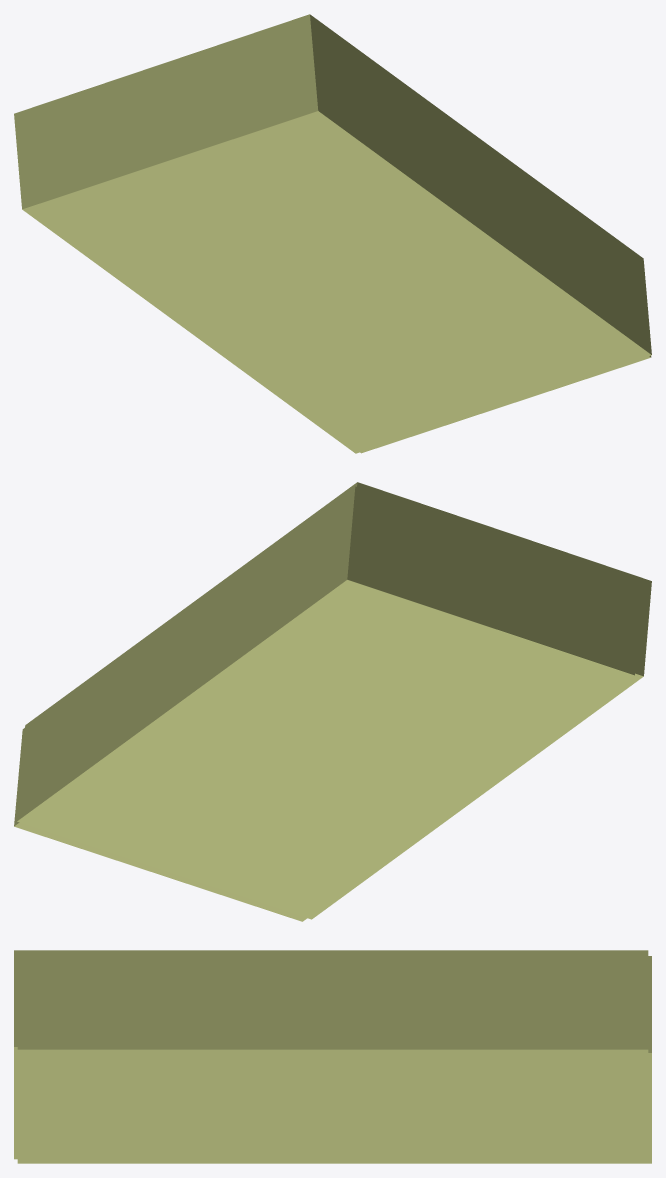
3 views of the same model, one above another, from view 1: azimuth 30°, elevation 25°; view 2: azimuth 150°, elevation 25°; view 3: azimuth 270°, elevation 25° (orthographic). The views are drawn at different scales.
Visible parts, largest first — view 1: 0_2_3_3_3_1_0_1_3_1_3_1; view 2: 0_2_3_3_3_1_0_1_3_1_3_1; view 3: 0_2_3_3_3_1_0_1_3_1_3_1.
Boxes of the visible parts, <box> form: 0_2_3_3_3_1_0_1_3_1_3_1: <box>14,14,651,453</box>; 0_2_3_3_3_1_0_1_3_1_3_1: <box>14,482,651,921</box>; 0_2_3_3_3_1_0_1_3_1_3_1: <box>14,950,651,1163</box>.
Bounding box in the file's own units: 4.75 × 1.9 × 9.05.
